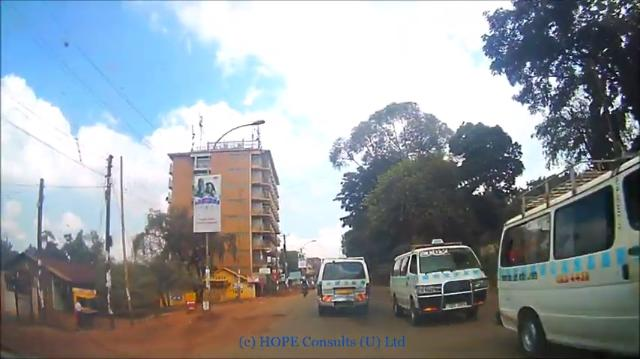van: (491, 150, 639, 359), (388, 236, 486, 325), (315, 255, 369, 315)
